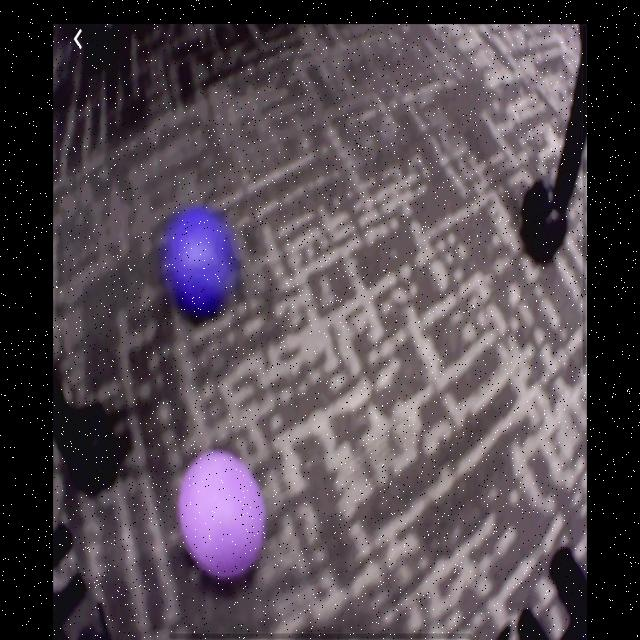ball: (178, 450, 266, 580), (167, 211, 235, 318)
